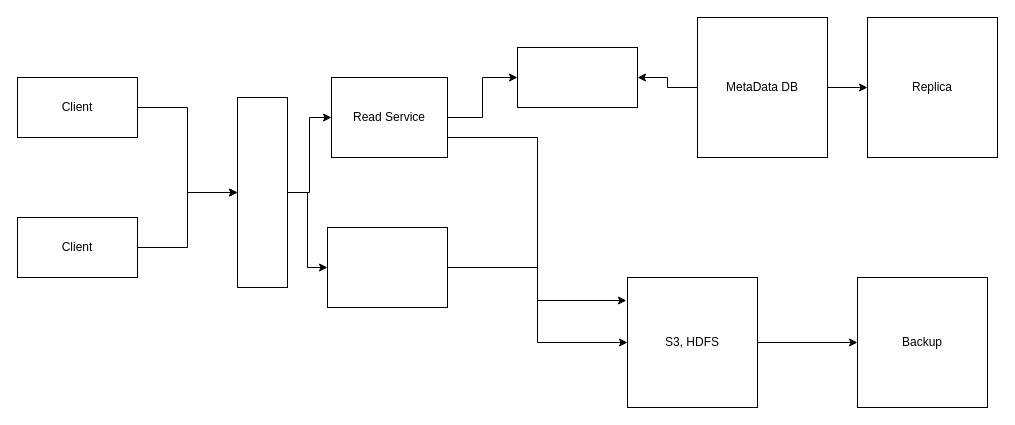
Image size: 1015x425. Some labels were removed from this diagram. Here are the shapes that lost their labels. From the top down, the centre of each, then its label:
the point at 577,77: Cache (Redis)
the point at 262,192: LB
the point at 387,267: Write Service
